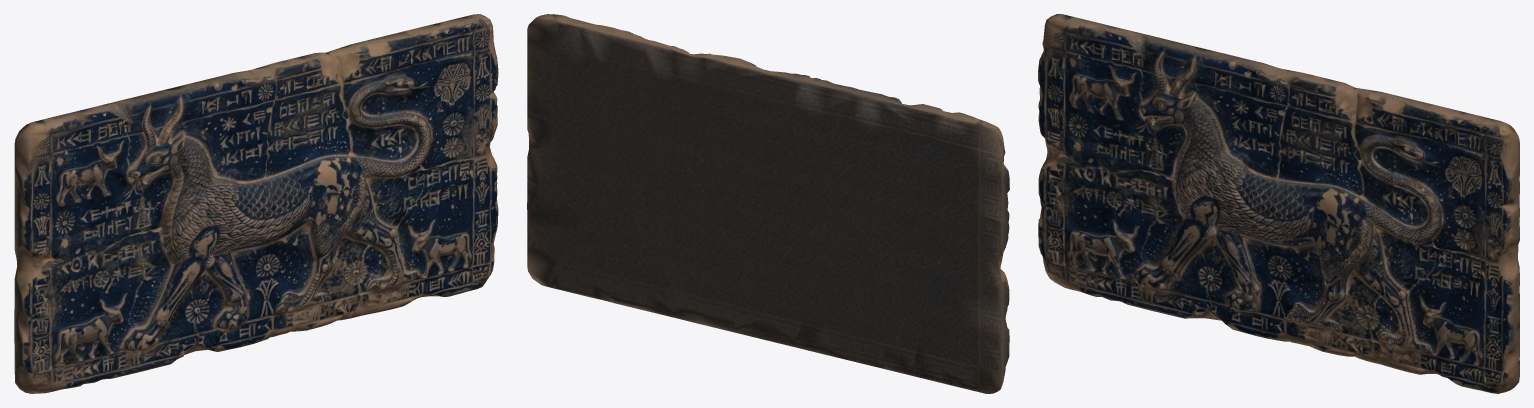
File: babylon_chimera_relief.glb
3 renders of one model, left to right at view 1: azimuth 30°, elevation 25°; view 2: azimuth 150°, elevation 25°; view 3: azimuth 330°, elevation 25°, orthographic.
Parts seen in each view (by area): view 1: mesh_node; view 2: mesh_node; view 3: mesh_node.
Boxes of the visible parts, x1,y1,x2,y2 form: mesh_node: (14, 14, 498, 393); mesh_node: (527, 14, 1009, 393); mesh_node: (1038, 14, 1519, 393).
Bounding box in the file's own units: 1.9 × 1.03 × 0.1154.
Materials: 1 (1 with a texture image).
